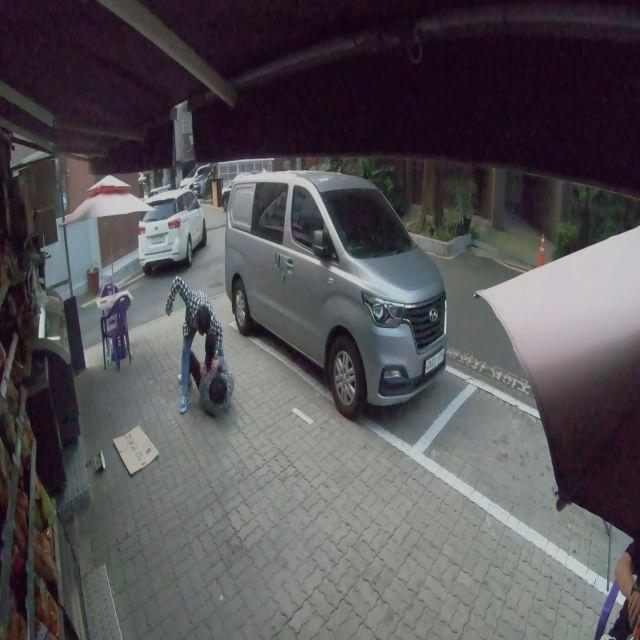fight: (167, 272, 232, 417)
